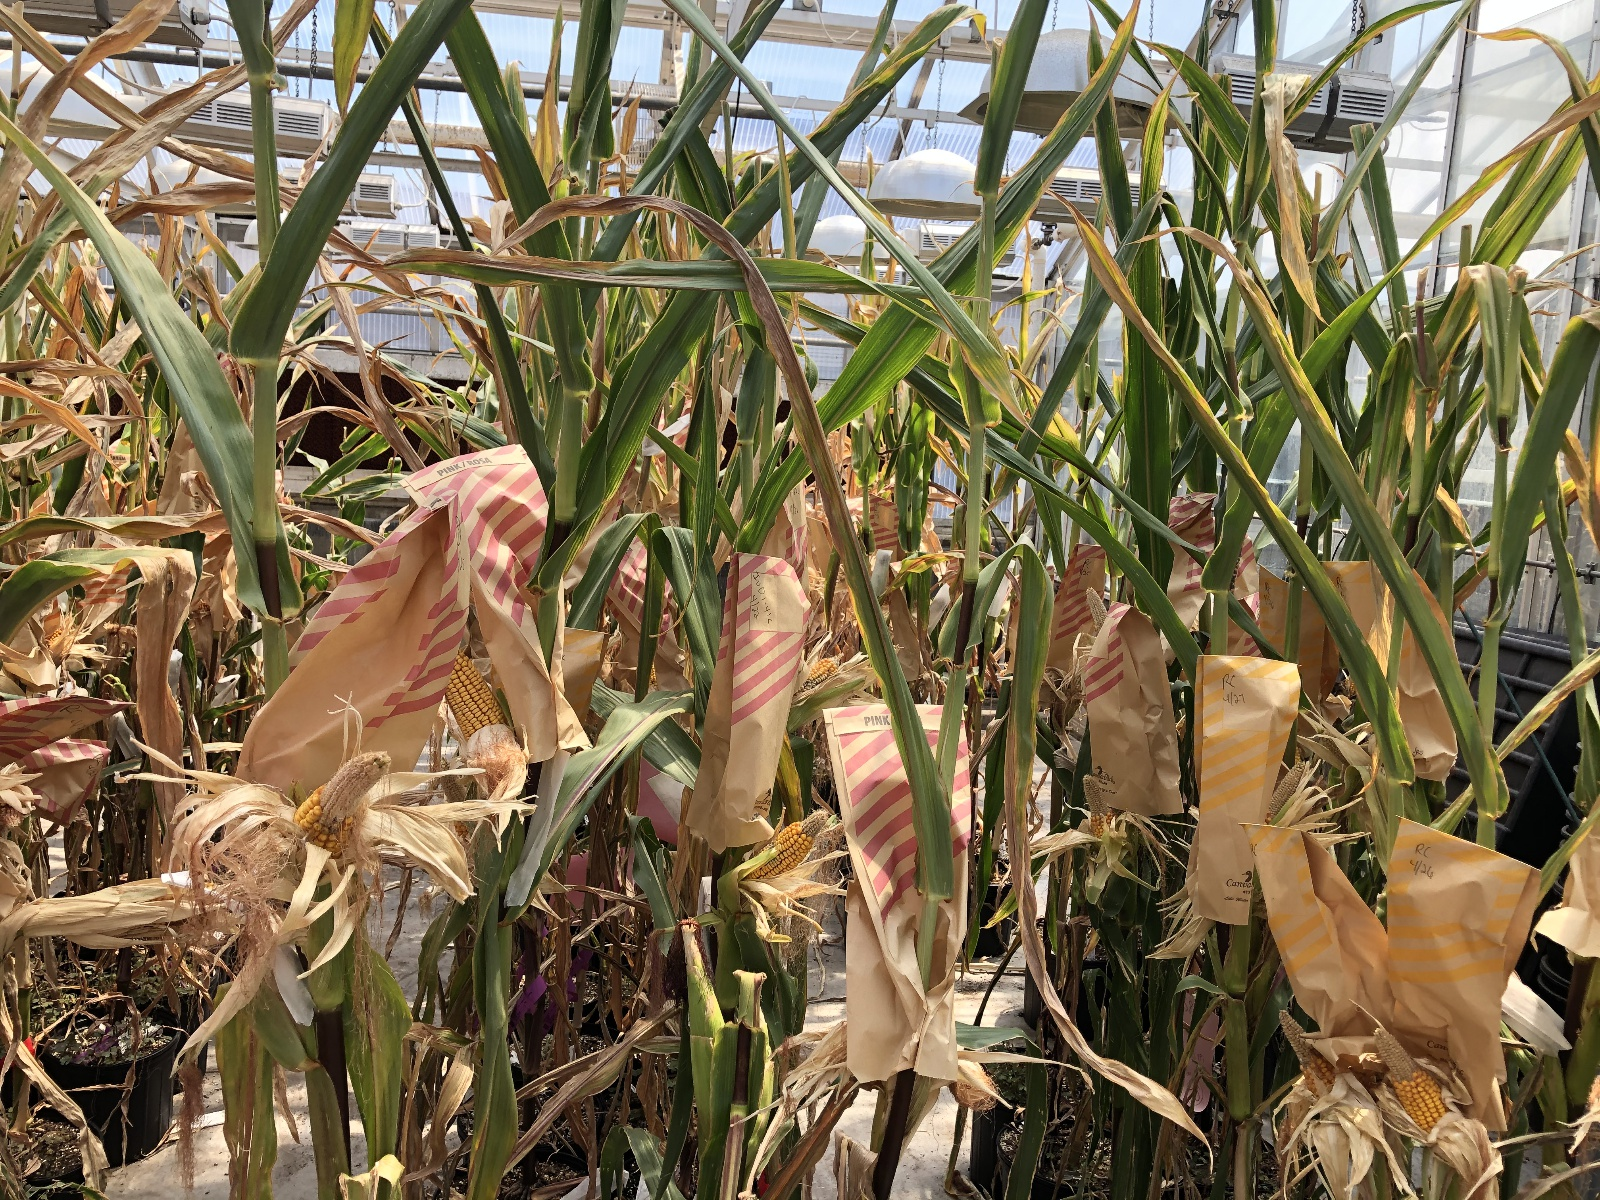ear: (1271, 998, 1373, 1123), (287, 745, 401, 857), (1367, 1024, 1463, 1139), (734, 803, 834, 887), (445, 628, 525, 725), (1067, 768, 1130, 863), (790, 647, 852, 700), (1267, 761, 1309, 823), (42, 619, 73, 650)
